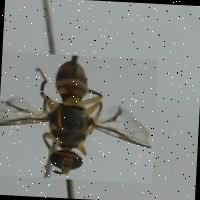Oriental-fruit-fly: (0, 51, 158, 183)
